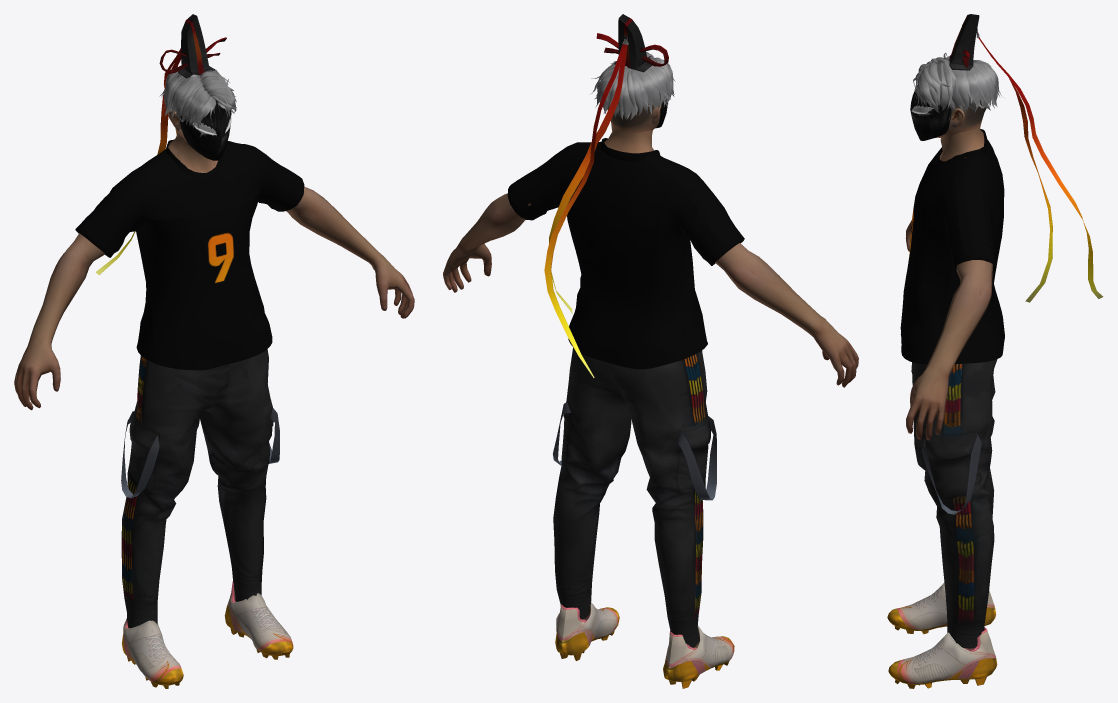
The model's file is football alpha.glb.
The picture shows the model from 3 angles, left to right: view 1: azimuth 30°, elevation 25°; view 2: azimuth 150°, elevation 25°; view 3: azimuth 270°, elevation 25°; orthographic projection. The views are drawn at different scales.
Parts seen in each view (by area): view 1: football alpha; view 2: football alpha; view 3: football alpha.
Boxes of the visible parts, <box> form: football alpha: <box>14,14,414,688</box>; football alpha: <box>443,14,858,688</box>; football alpha: <box>887,14,1103,688</box>.
Bounding box in the file's own units: 0.6312 × 0.9736 × 0.2955.
Materials: 8 (8 with a texture image).
